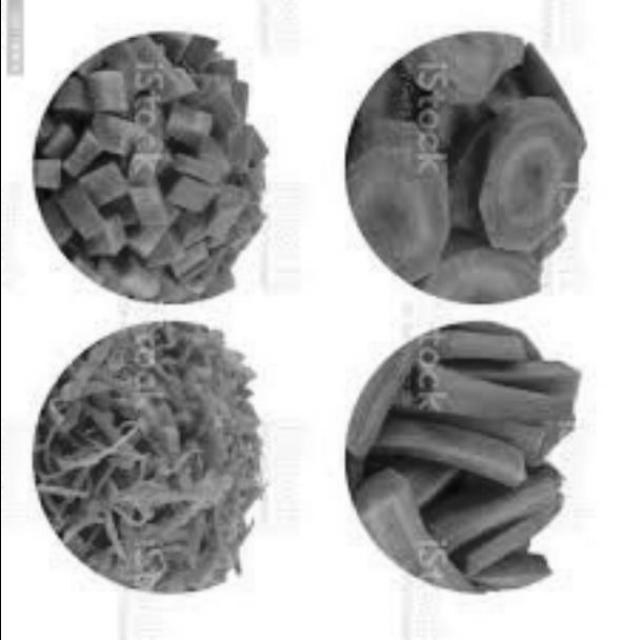ca rot: (336, 326, 592, 609), (40, 19, 282, 318), (28, 316, 275, 596), (352, 45, 597, 286)
